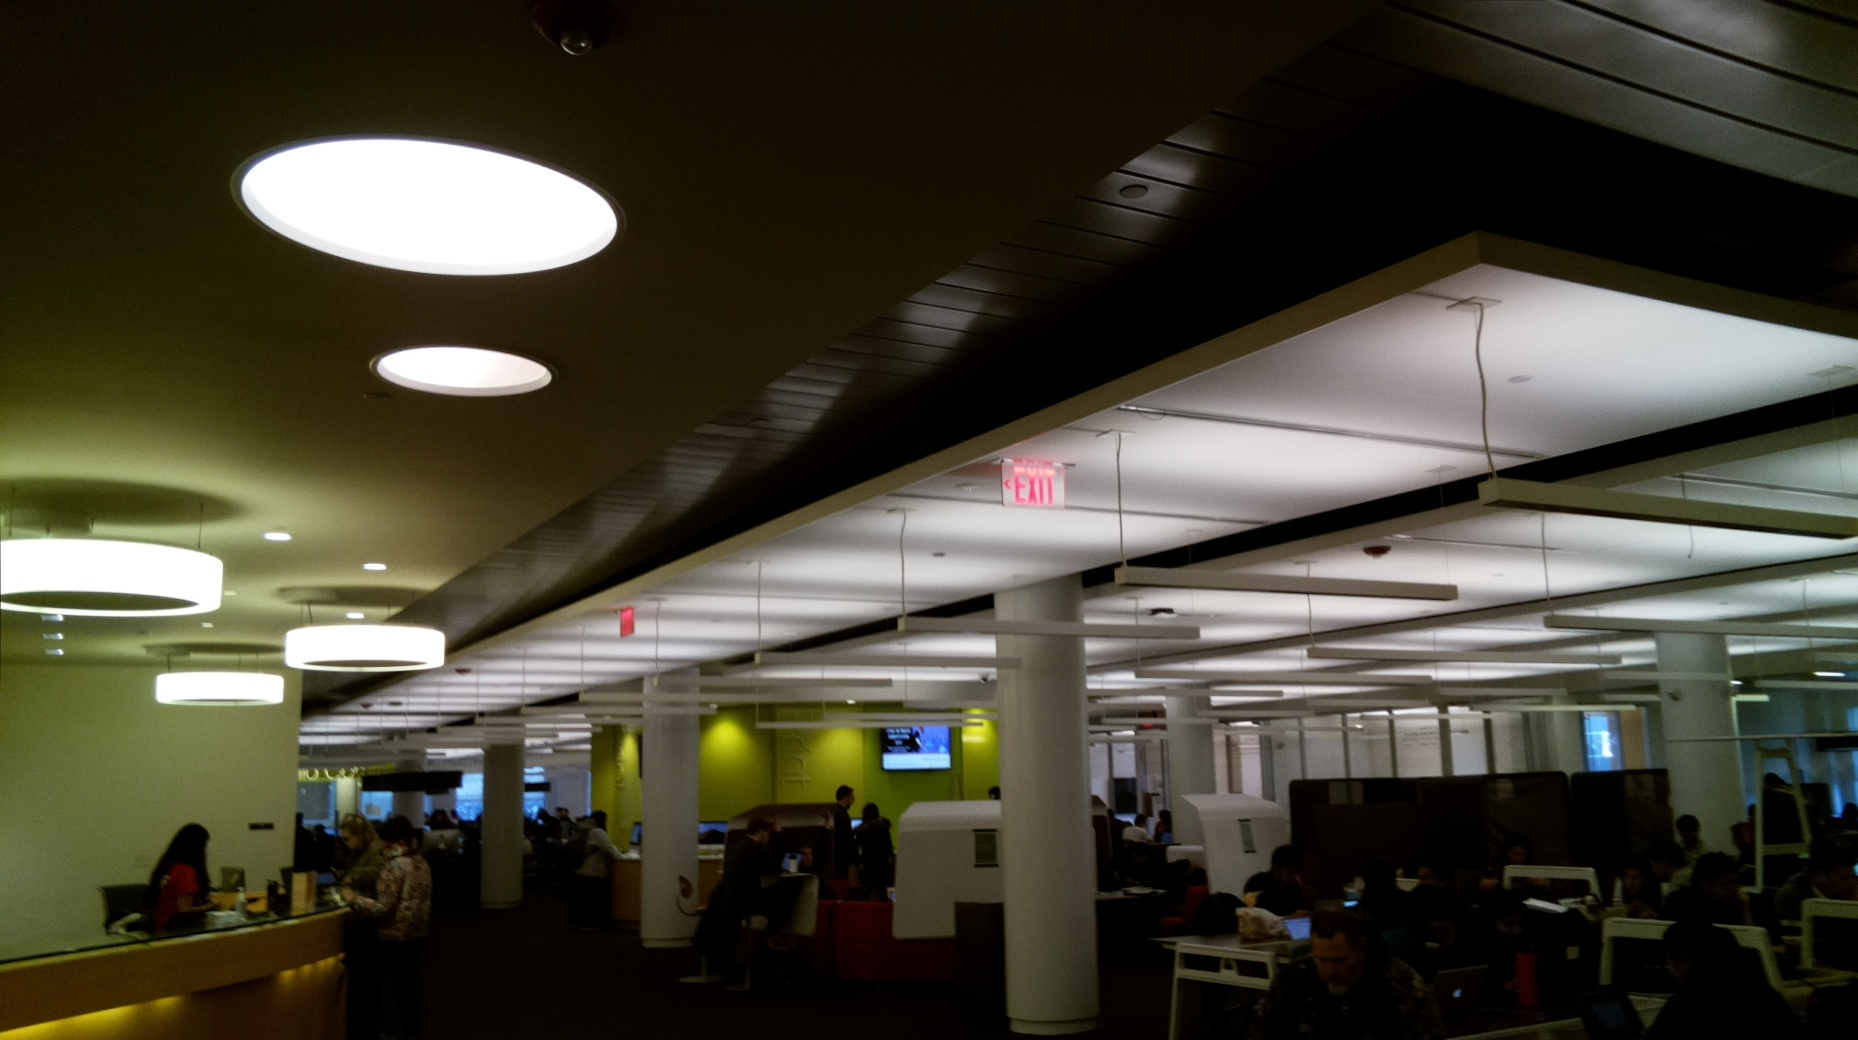exit sign: (998, 458, 1069, 512), (618, 604, 638, 641)
